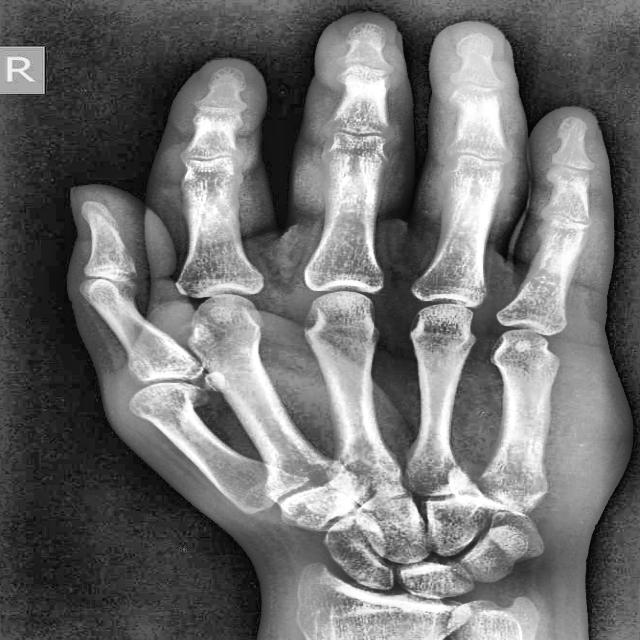fracture: (162, 384, 208, 412)
